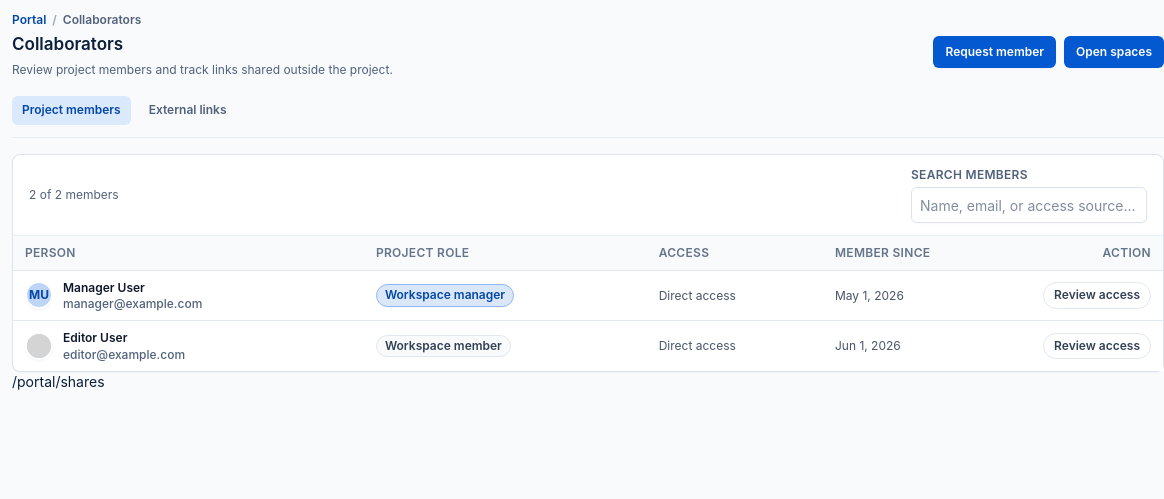
it: PortalSharesPage › lists, filters, and copies external links
Step 1. Click the tab "External links" → (188, 110), box 139,96 -> 236,124
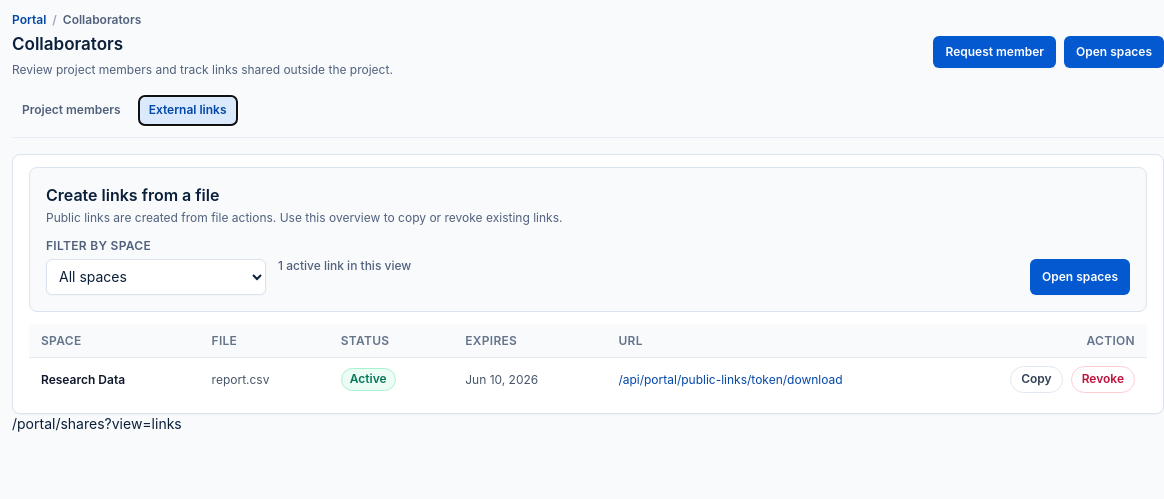
Expected: the dropdown labelled "Filter by space" shows "All spaces"
Expected: the text "report.csv" is shown, 212,372 -> 270,386
Step 2. Select "Research Data" in the dropdown labelled "Filter by space" → (156, 276), box 46,258 -> 266,294
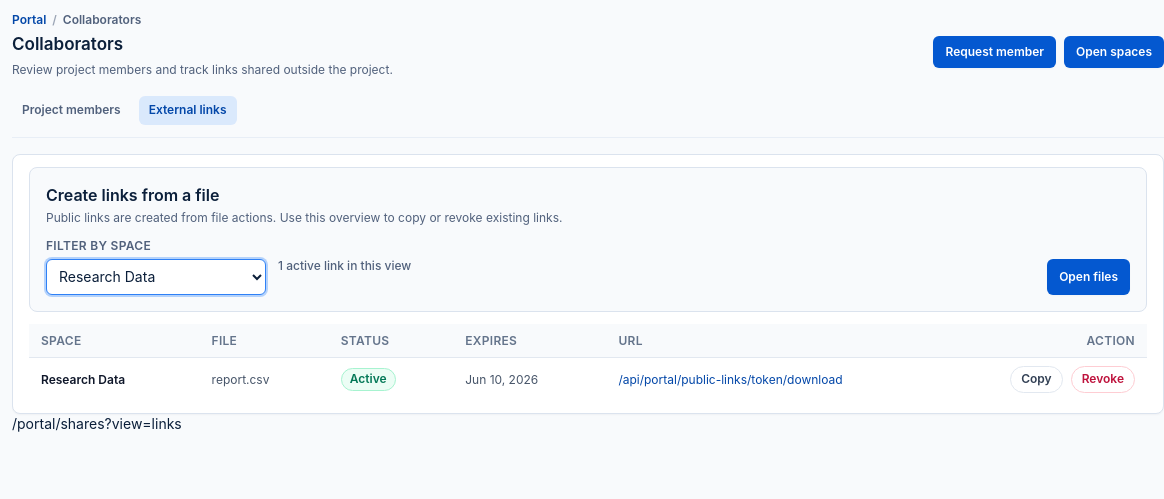
Expected: the link "Open files" has attribute href="/portal/storage-spaces/research-data#space-files", 1047,258 -> 1130,294
Step 3. Click the button "Copy" → (1036, 379), box 1010,366 -> 1063,393
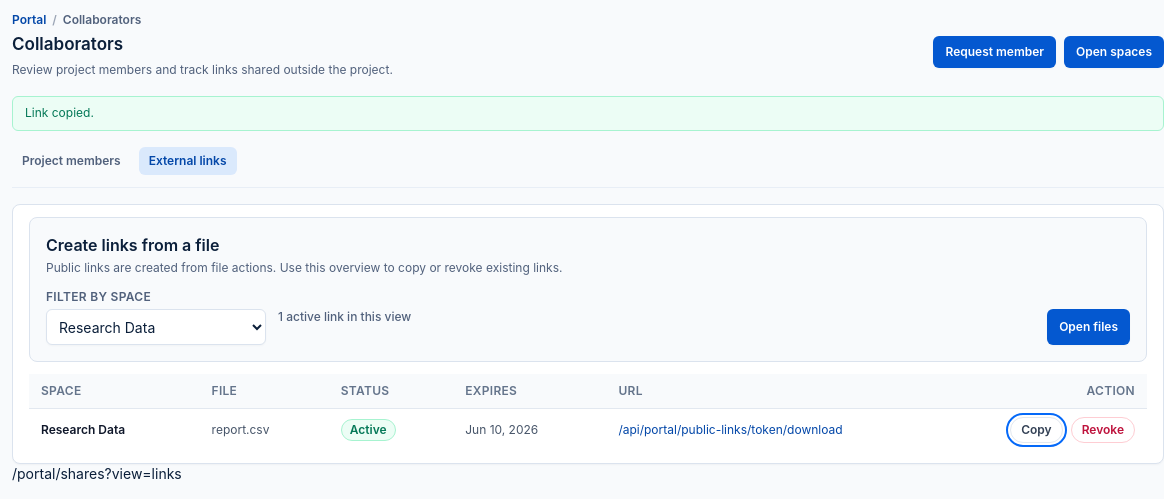
Expected: the text "Link copied." is shown, 12,96 -> 1163,130
